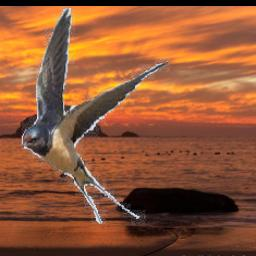Swallow: (23, 6, 174, 227)
